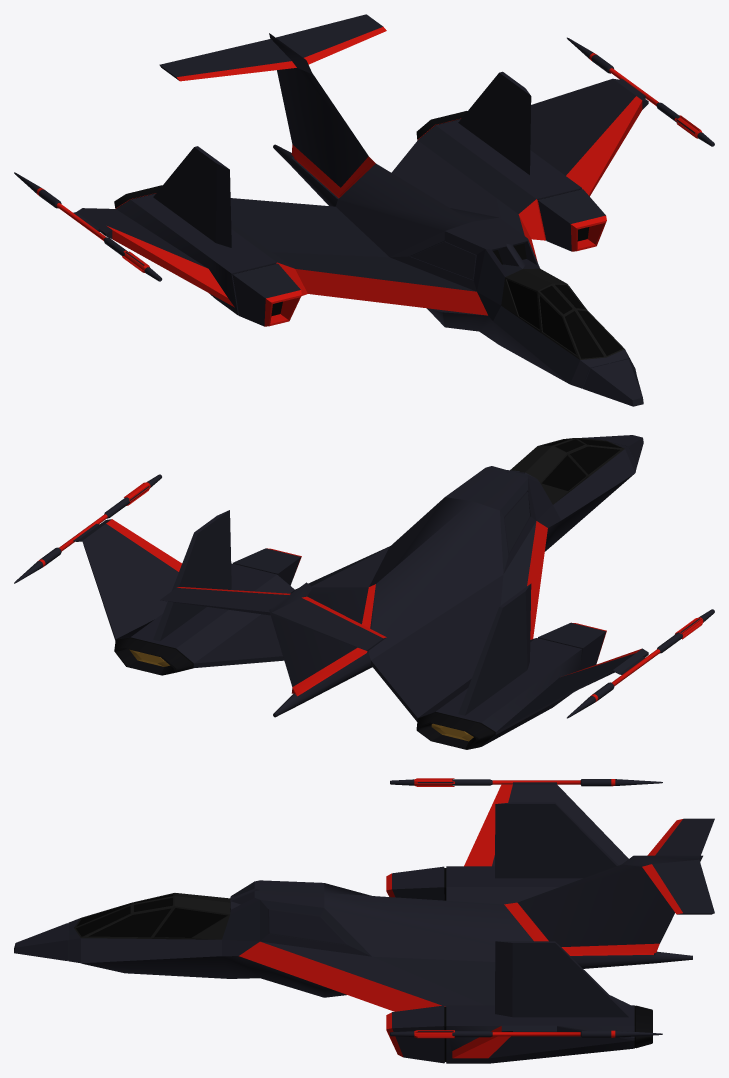
File: futuristic spacecraft_obj.obj
3 renders of one model, top to bottom at view 1: azimuth 30°, elevation 25°; view 2: azimuth 150°, elevation 25°; view 3: azimuth 270°, elevation 25°, orthographic. The views are drawn at different scales.
Parts seen in each view (by area): view 1: fuselage_Cube, cockpit_Cube.001; view 2: fuselage_Cube, cockpit_Cube.001; view 3: fuselage_Cube, cockpit_Cube.001.
Boxes of the visible parts, x1=… form: fuselage_Cube: x1=14, y1=14, x2=714, y2=406; cockpit_Cube.001: x1=501, y1=268, x2=624, y2=359; fuselage_Cube: x1=14, y1=435, x2=714, y2=749; cockpit_Cube.001: x1=510, y1=438, x2=624, y2=504; fuselage_Cube: x1=14, y1=778, x2=714, y2=1063; cockpit_Cube.001: x1=74, y1=893, x2=230, y2=939.
Size of the model in its own units: 9.72 by 2.33 by 11.28.
